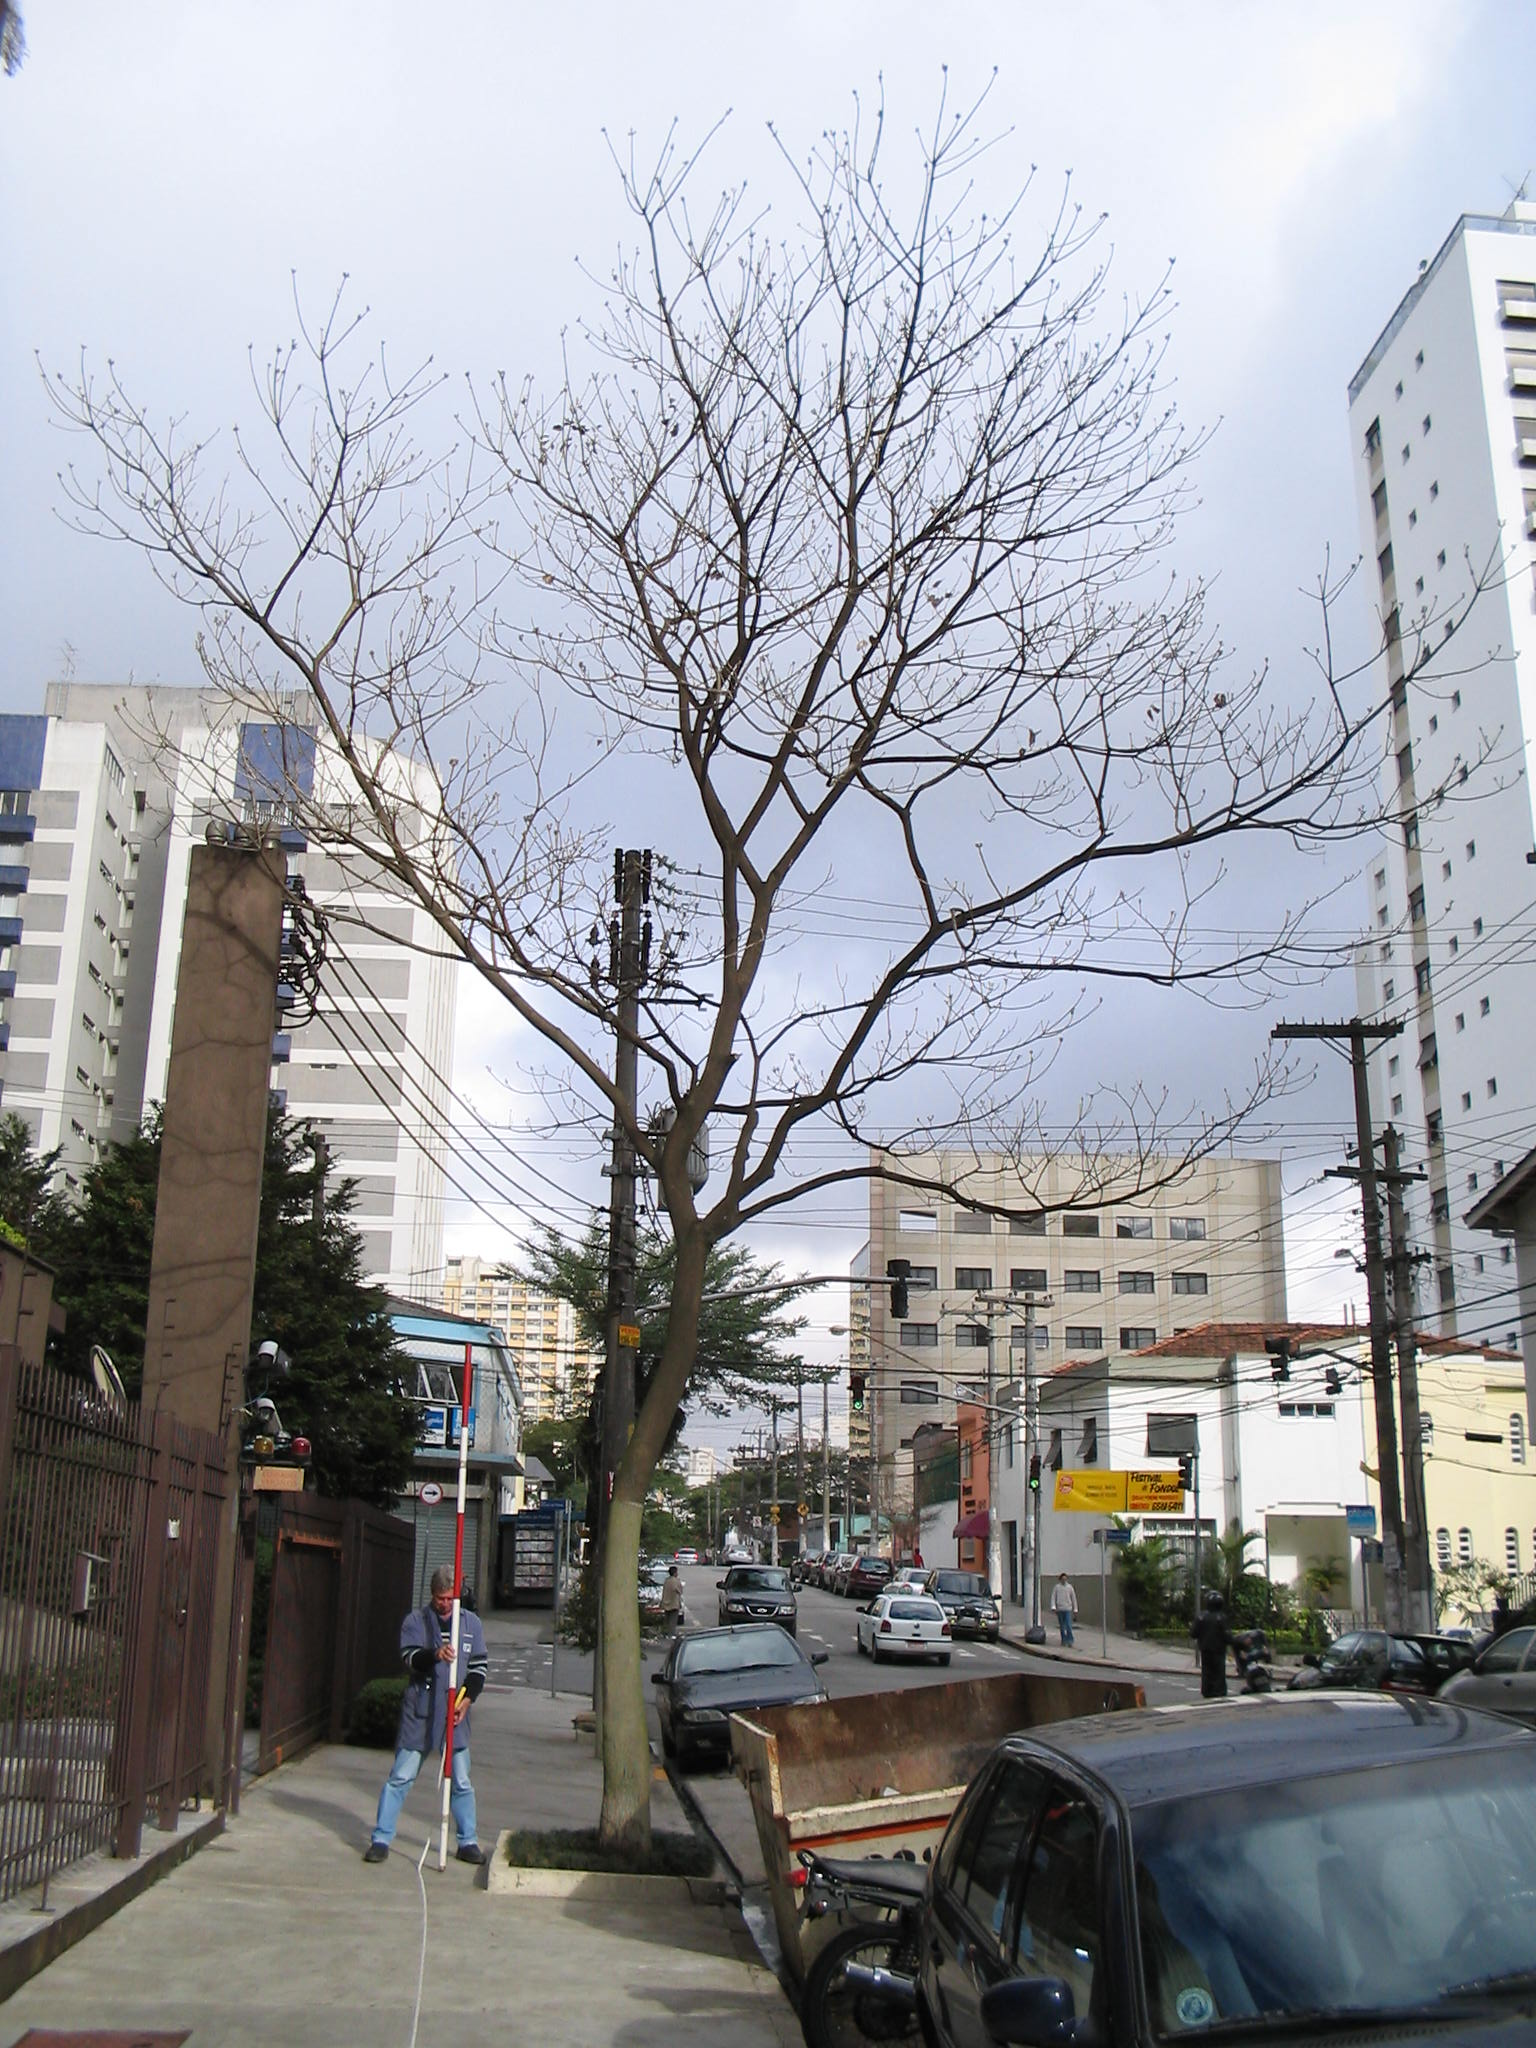stem: (565, 1206, 720, 1861)
stick: (416, 1340, 487, 1872)
tree: (37, 56, 1526, 1869)
